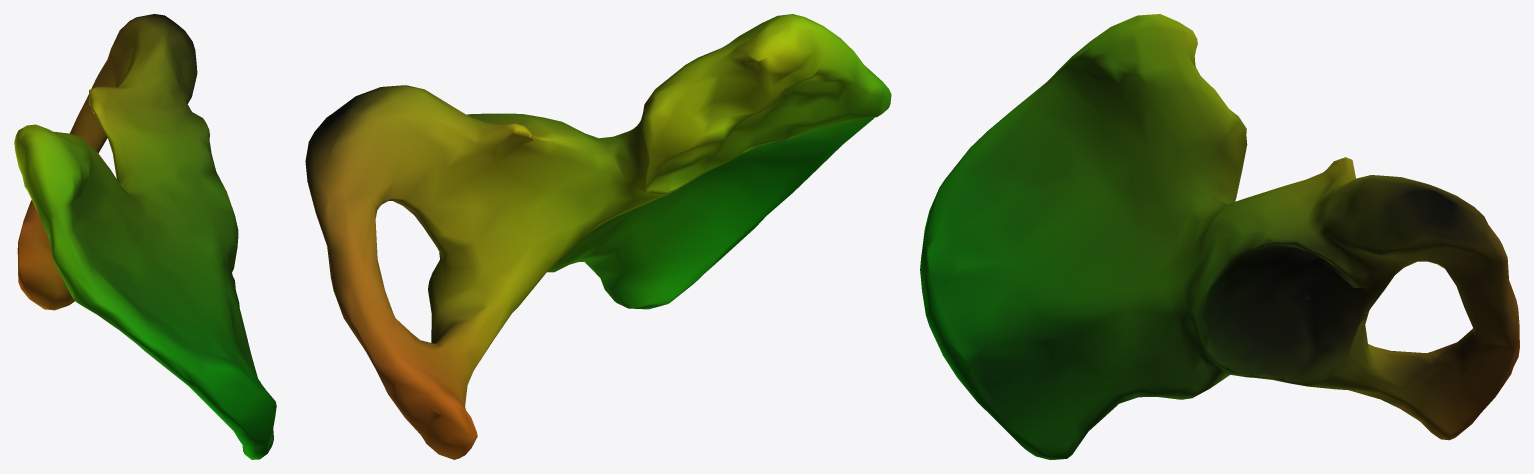
File: zeometry-organic-forms-bone-fragment_v1.glb
3 renders of one model, left to right at view 1: azimuth 30°, elevation 25°; view 2: azimuth 150°, elevation 25°; view 3: azimuth 270°, elevation 25°, orthographic. The views are drawn at different scales.
Parts seen in each view (by area): view 1: Bone Fragment; view 2: Bone Fragment; view 3: Bone Fragment.
Part boxes in pixels (<box>): Bone Fragment: <box>14,14,276,459</box>; Bone Fragment: <box>305,14,891,459</box>; Bone Fragment: <box>920,14,1519,459</box>.
Size of the model in its own units: 0.3168 by 0.3244 by 0.5.
